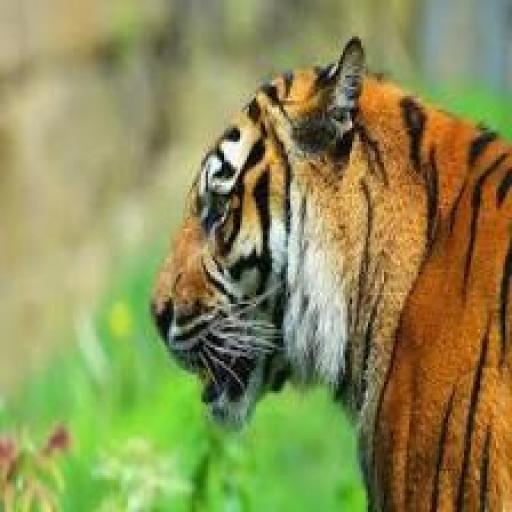Tiger: (151, 39, 512, 509)
